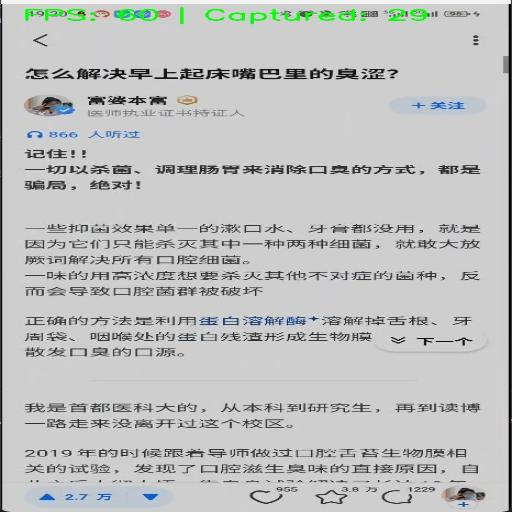back: (8, 28, 69, 54)
butten: (370, 320, 492, 354), (370, 486, 432, 508), (450, 27, 498, 53)
